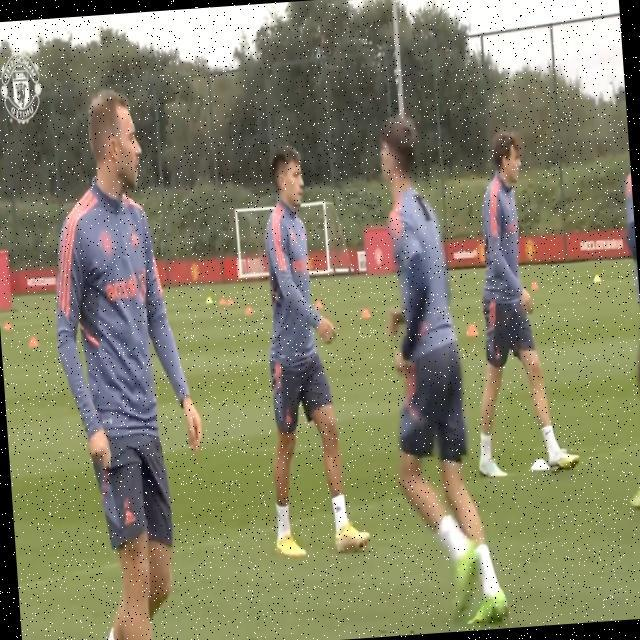Adidas: (123, 509, 136, 525), (130, 230, 140, 247)
